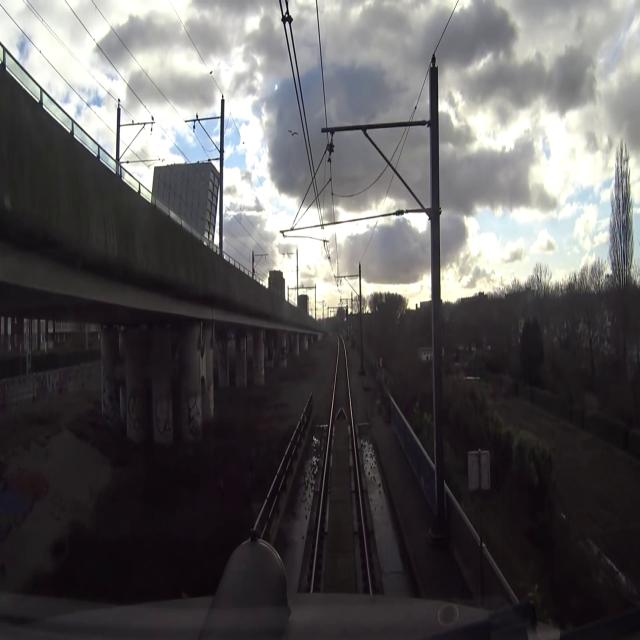rail-track: (326, 412, 356, 588), (333, 337, 349, 417), (358, 510, 366, 589), (315, 521, 322, 588)
